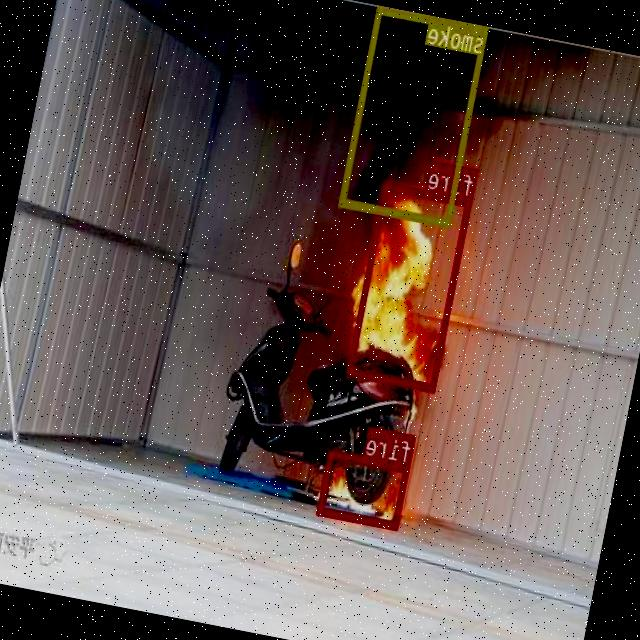fire: (348, 180, 473, 390), (318, 448, 411, 528)
smoke: (340, 6, 490, 226)
